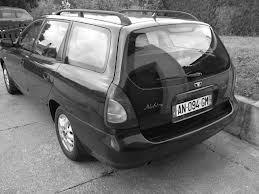car: (3, 2, 240, 172)
